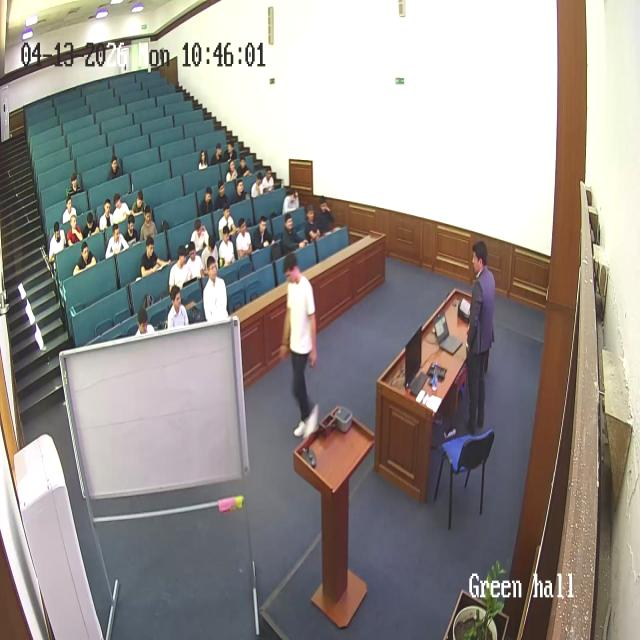person: (281, 252, 319, 438), (462, 242, 496, 434), (202, 255, 228, 322), (280, 215, 306, 259), (168, 244, 190, 294), (140, 236, 166, 278), (166, 284, 190, 328), (105, 222, 128, 260), (73, 241, 97, 275), (217, 223, 235, 267), (254, 216, 274, 254), (235, 217, 253, 259), (48, 221, 66, 263), (185, 241, 203, 282), (190, 217, 210, 253), (218, 204, 237, 240), (318, 198, 336, 236), (201, 235, 219, 271), (112, 192, 130, 228), (304, 204, 320, 244), (66, 213, 84, 248), (134, 307, 154, 337), (140, 208, 158, 241), (99, 197, 114, 234), (123, 213, 140, 244), (215, 180, 231, 212), (282, 187, 299, 216), (132, 190, 147, 220), (261, 165, 277, 193), (201, 184, 215, 214), (62, 197, 77, 225), (233, 178, 247, 204), (250, 172, 264, 198), (69, 174, 83, 198), (226, 158, 238, 184), (109, 154, 121, 180), (237, 156, 250, 180), (211, 143, 224, 166), (224, 140, 236, 163), (198, 149, 208, 171)
